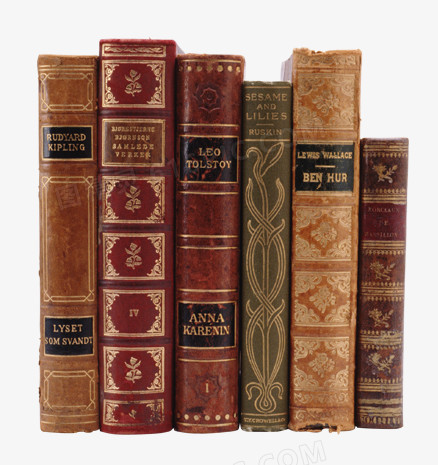book: (98, 37, 172, 440), (286, 46, 357, 430), (37, 51, 99, 435), (177, 54, 239, 435), (246, 81, 288, 439), (361, 138, 405, 430)
